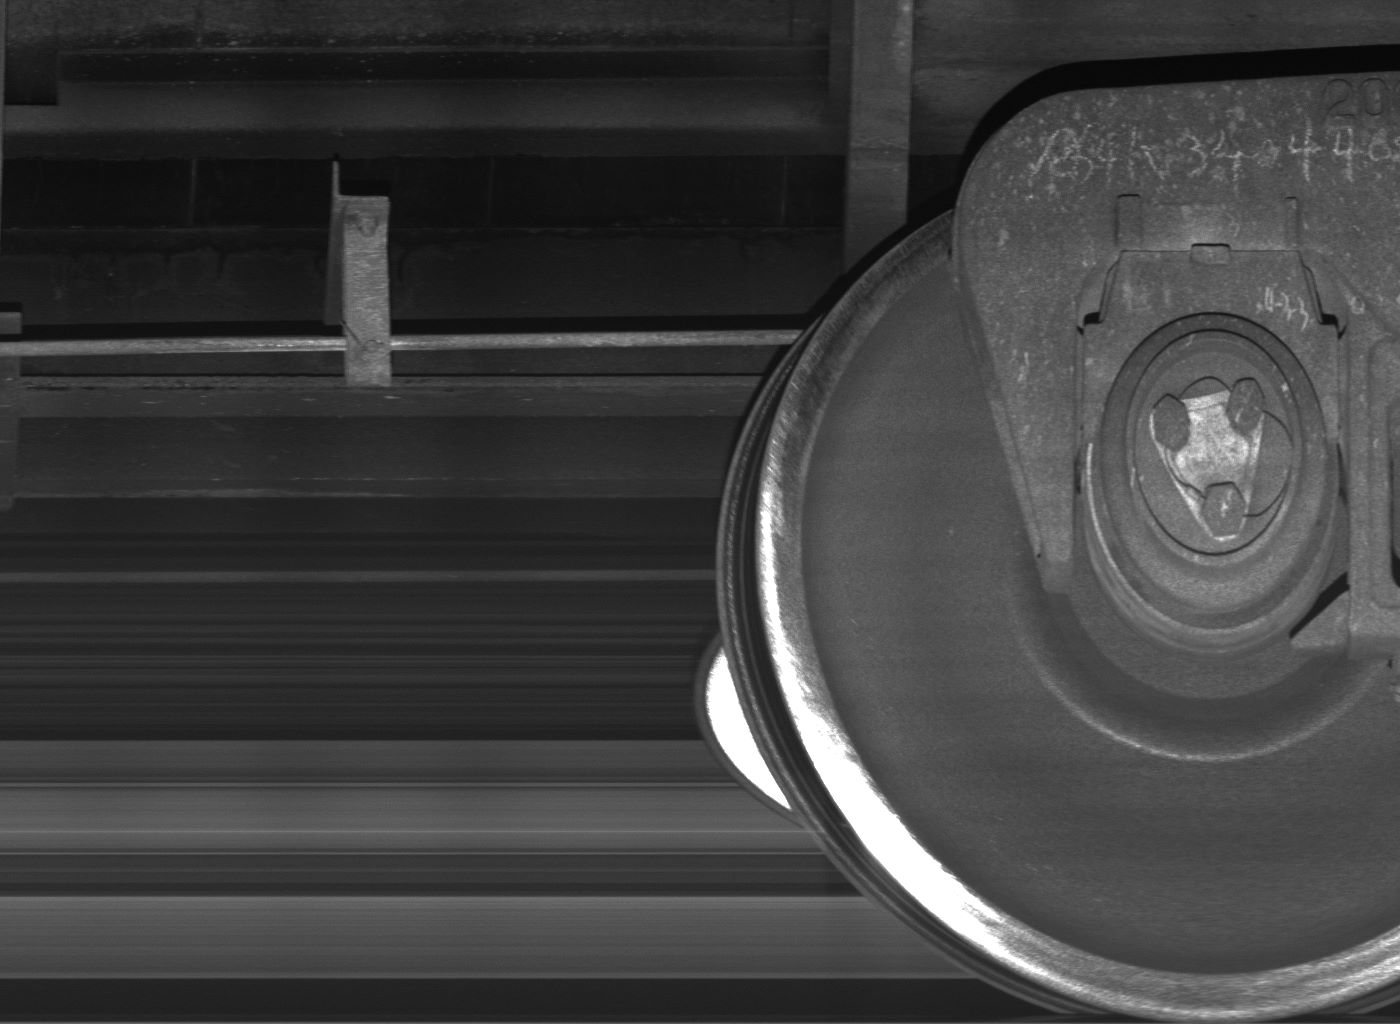normal: (326, 166, 393, 388)
